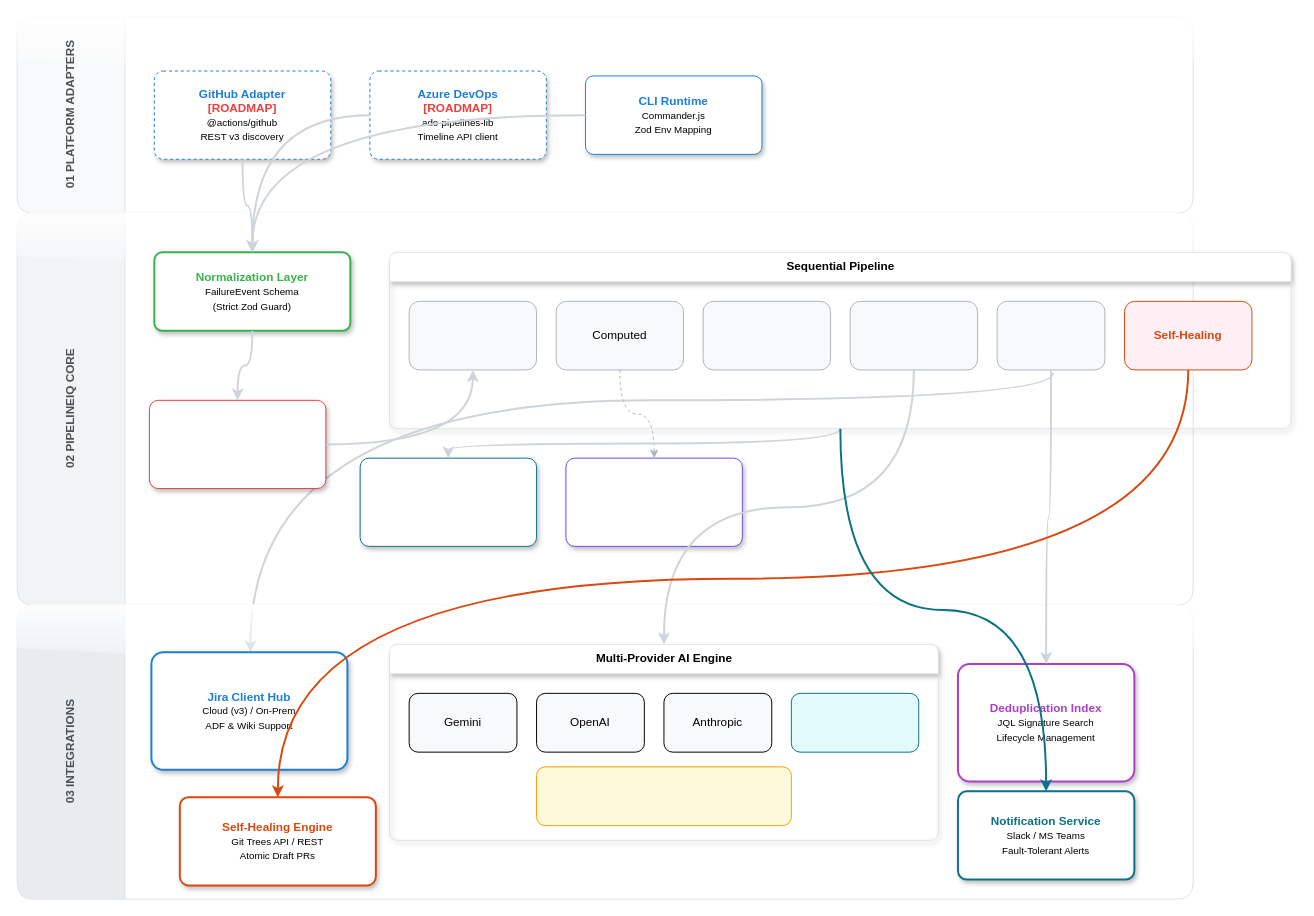
Some shapes in this 1314 by 916 pixel diagram are drawn without their labels. The centre of each missing label's shape, as x and y in pixels:
AI Confidence Fallback Layer: pixel 663 796
AI Engine: pixel 913 335
Deduplicator: pixel 766 335
Deterministic: pixel 472 335
History & Metrics MTTR & Trend Analysis Auto-Worklogs / Auto-Reopen: pixel 448 503
LocalAI / Ollama: pixel 854 722
Renderer: pixel 1050 335
Secret Masking Credential Scrubbing Safety Middleware: pixel 238 445
Signatures Library Regex Patterns Deterministic RCA: pixel 654 503
